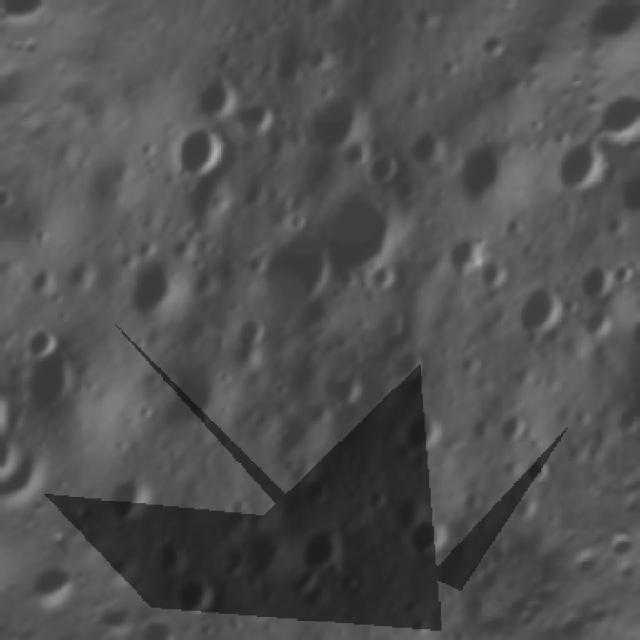crater: (152, 109, 238, 194), (257, 240, 343, 325), (116, 255, 196, 333), (187, 49, 262, 125), (154, 562, 223, 630), (0, 426, 62, 500), (289, 522, 356, 589), (552, 136, 619, 202), (98, 473, 162, 538), (512, 286, 572, 348), (399, 512, 459, 572), (566, 254, 626, 314), (395, 412, 450, 468), (440, 236, 495, 292), (218, 309, 271, 362), (514, 451, 566, 502), (381, 338, 432, 390), (18, 323, 65, 372), (239, 98, 286, 147), (492, 406, 536, 452), (359, 254, 403, 300), (361, 146, 404, 191), (386, 489, 426, 531), (612, 170, 640, 228), (615, 308, 640, 368), (216, 557, 250, 591), (360, 484, 391, 516), (0, 365, 9, 446), (312, 0, 400, 8)
